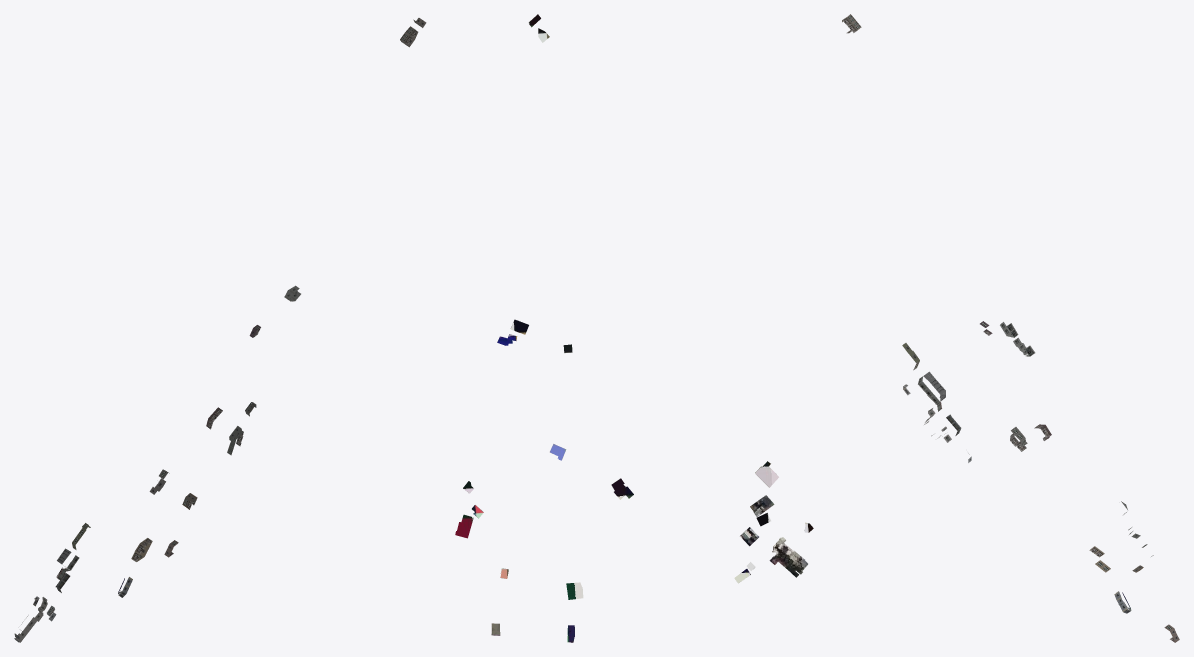
The model's file is tile_LOD4_r2_c0.glb.
3 views of the same model, side by side, from view 1: azimuth 30°, elevation 25°; view 2: azimuth 150°, elevation 25°; view 3: azimuth 270°, elevation 25° (orthographic). The views are drawn at different scales.
Size of the model in its own units: 303 by 486 by 216.
74 materials, 74 textured.
